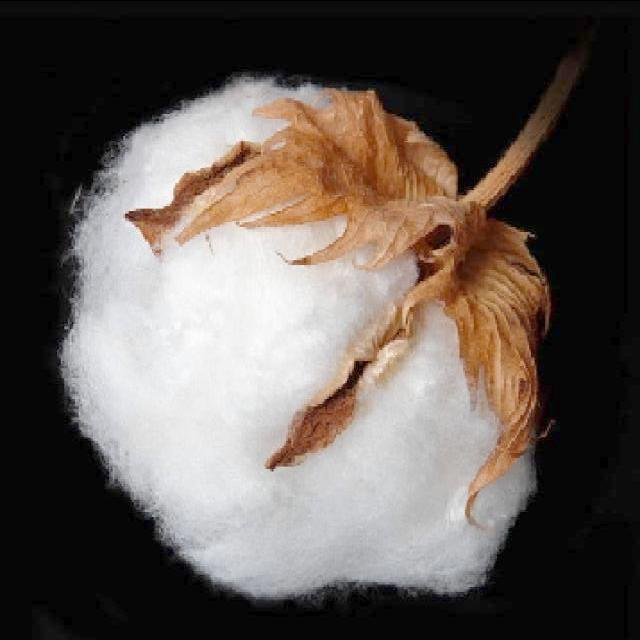Matured Cotton Boll: (62, 97, 542, 592)
